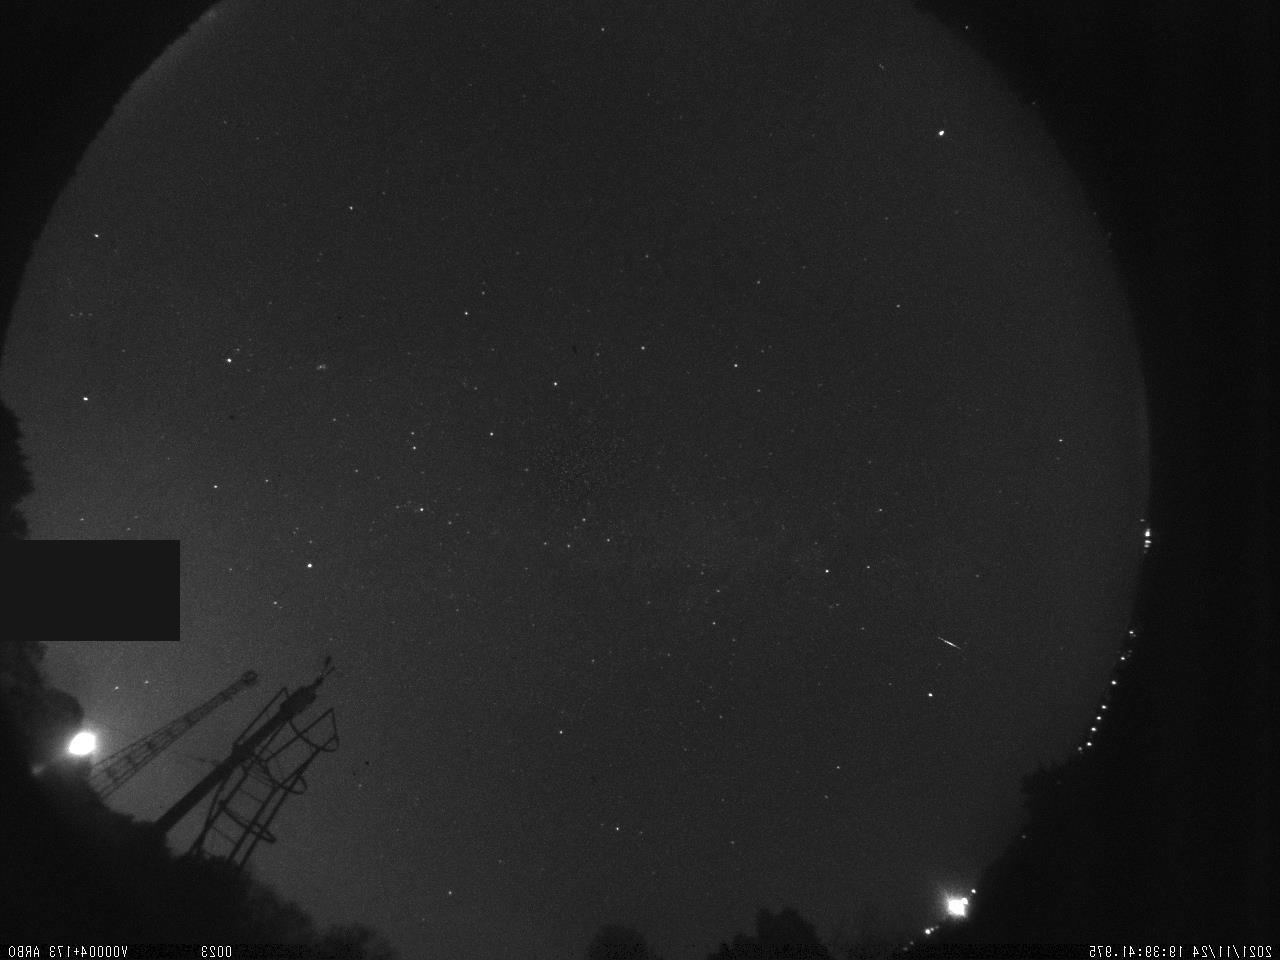meteor: (929, 630, 967, 659)
